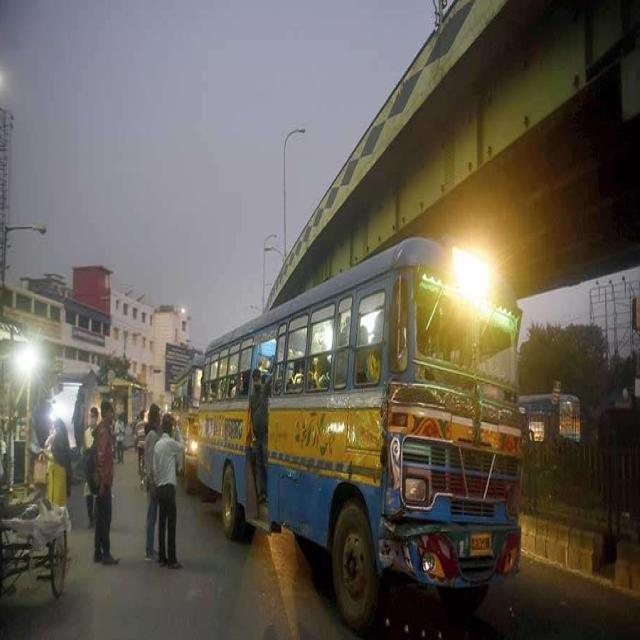bus: (199, 238, 521, 630)
